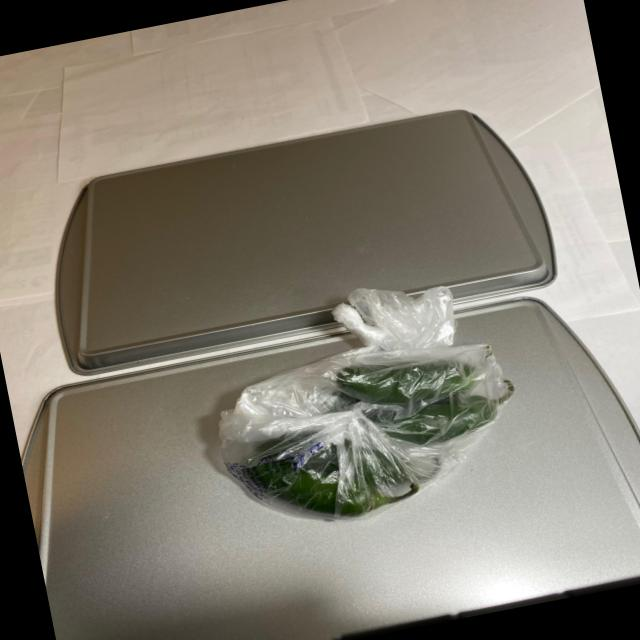chilli: (202, 318, 540, 546)
